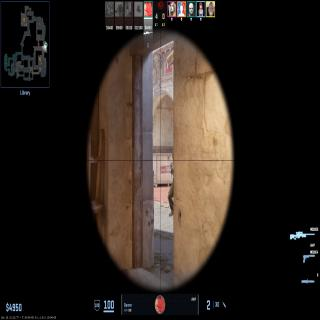T-Body: (167, 148, 175, 219)
T-Head: (171, 149, 175, 163)
